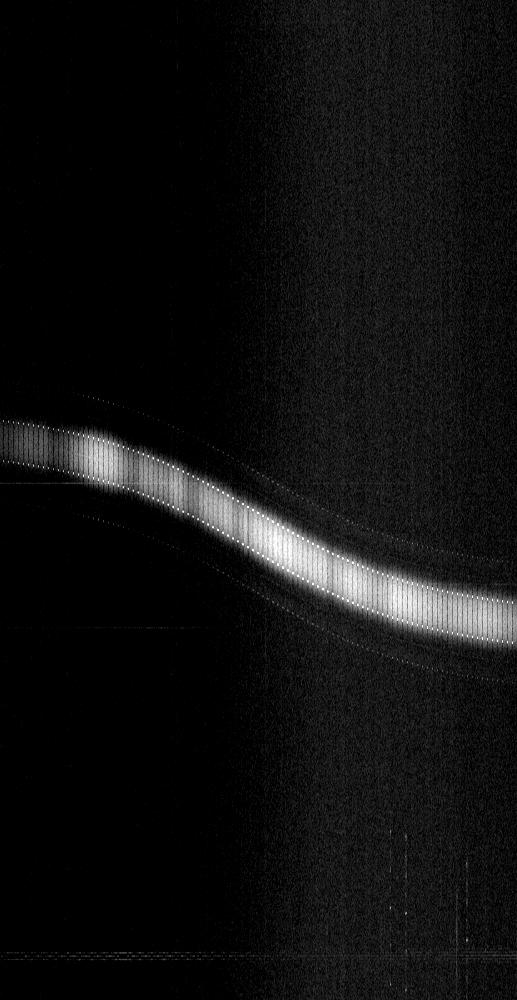signal: (0, 0, 516, 999)
